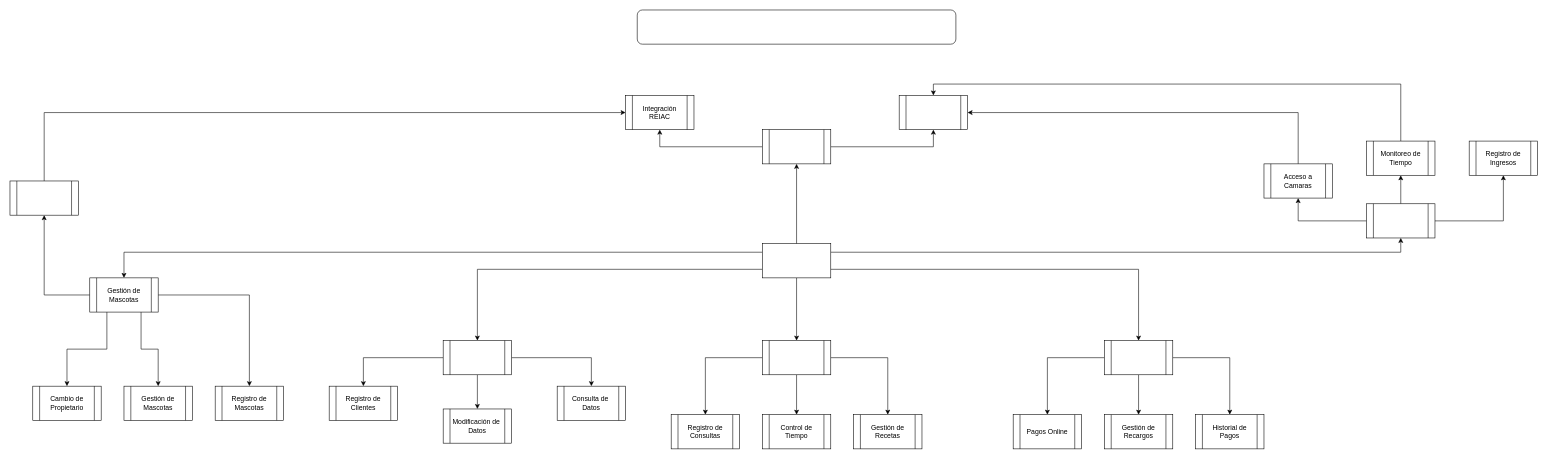
The diagram is 1548 pixels wide and 459 high, and some of its shapes have lost their labels. The shapes that lost their labels are listed below. From the top down, each one's box as (x1, y1, x2, y2) in pixels, then its label:
(637, 9, 956, 44): MODELO DE REQUERIMIENTOS Magda Jannette Fernández Camargo
(899, 95, 968, 130): Integración de Camaras
(762, 129, 831, 164): Integración de Sistemas
(9, 180, 78, 215): Verificación REIAC
(1366, 203, 1435, 238): Gestión de Ingresos
(762, 243, 831, 278): Sistema de Gestión Clínica Veterinaria
(443, 340, 512, 375): Gestión de Clientes
(762, 340, 831, 375): Gestión de Consultas
(1104, 340, 1173, 375): Gestión de Pagos
